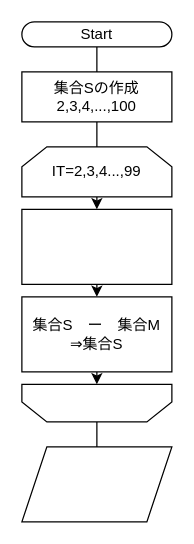
This 194x544 diagram has some shape labels left out. Each missing label, with the box of its shape:
集合Mの作成 ２＊IT、ITずつ、100まで: (21, 208, 172, 284)
集合Sの出力: (21, 446, 172, 522)
